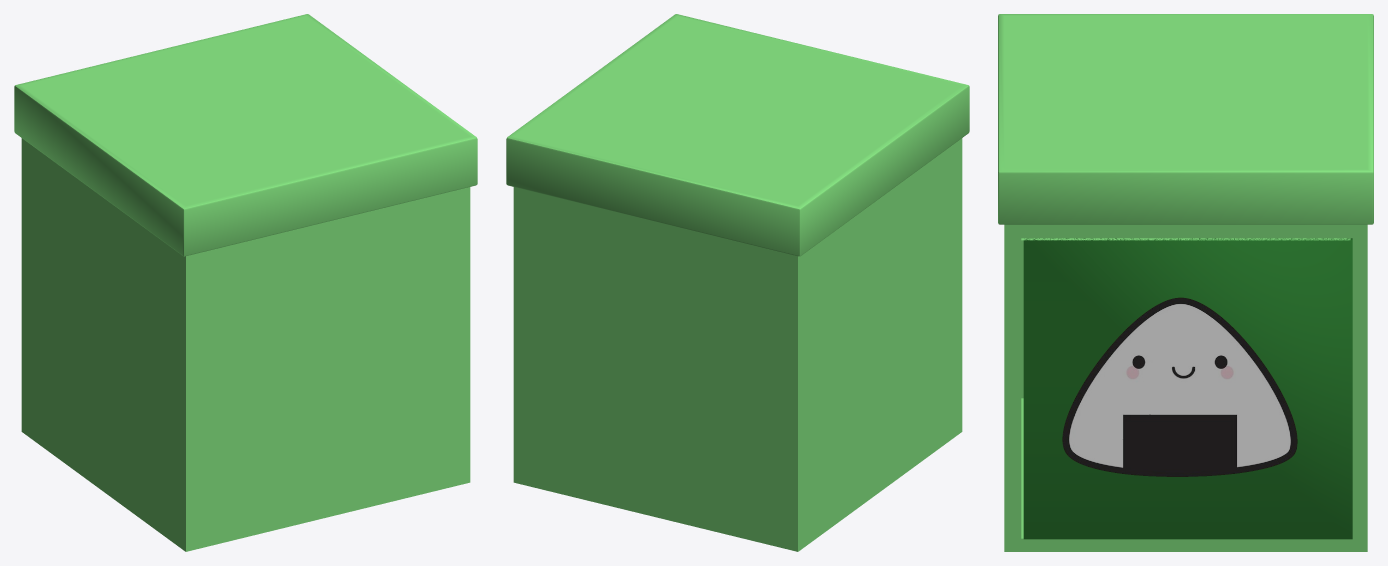
File: Cajon de arroz 1.fbx
3 views of the same model, side by side, from view 1: azimuth 30°, elevation 25°; view 2: azimuth 150°, elevation 25°; view 3: azimuth 270°, elevation 25° (orthographic). The views are drawn at different scales.
Parts seen in each view (by area): view 1: Mueble; view 2: Mueble; view 3: Mueble, Tapa, Imagen Arroz.
Boxes of the visible parts, bbox=[...] form: Mueble: bbox=[14, 14, 477, 551]; Mueble: bbox=[506, 14, 969, 551]; Mueble: bbox=[998, 14, 1373, 551]; Tapa: bbox=[1023, 238, 1352, 539]; Imagen Arroz: bbox=[1062, 297, 1297, 476].
Size of the model in its own units: 208 by 232 by 207.
